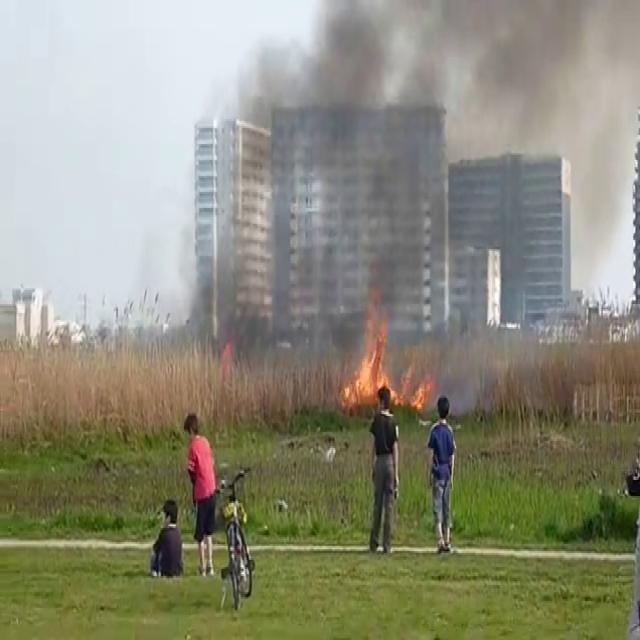Fire: (341, 286, 401, 411)
Smoke: (246, 0, 640, 375)
